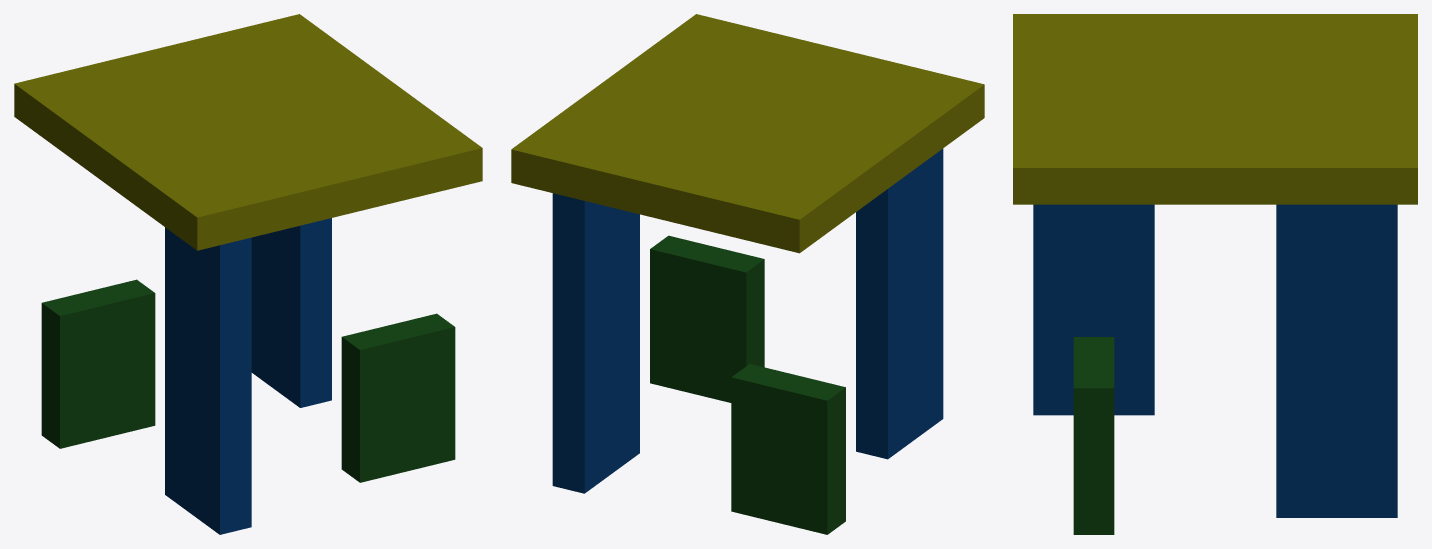
Rendered from T7DirB.fbx.
The picture shows the model from 3 angles, left to right: view 1: azimuth 30°, elevation 25°; view 2: azimuth 150°, elevation 25°; view 3: azimuth 270°, elevation 25°; orthographic projection. The views are drawn at different scales.
Visible parts, largest first — view 1: 3, 1, 4, 2; view 2: 2, 3, 4, 1; view 3: 2, 3, 1, 4.
Boxes of the visible parts, x1=… form: 3: x1=105, y1=116, x2=339, y2=534; 1: x1=249, y1=81, x2=482, y2=482; 4: x1=14, y1=49, x2=247, y2=448; 2: x1=157, y1=14, x2=390, y2=407; 2: x1=511, y1=82, x2=747, y2=493; 3: x1=748, y1=49, x2=984, y2=459; 4: x1=655, y1=117, x2=892, y2=534; 1: x1=604, y1=14, x2=839, y2=402; 2: x1=1215, y1=91, x2=1417, y2=517; 3: x1=1013, y1=14, x2=1215, y2=415; 1: x1=1013, y1=91, x2=1215, y2=534; 4: x1=1215, y1=14, x2=1417, y2=90.
Bounding box in the file's own units: 180 × 200 × 200.
